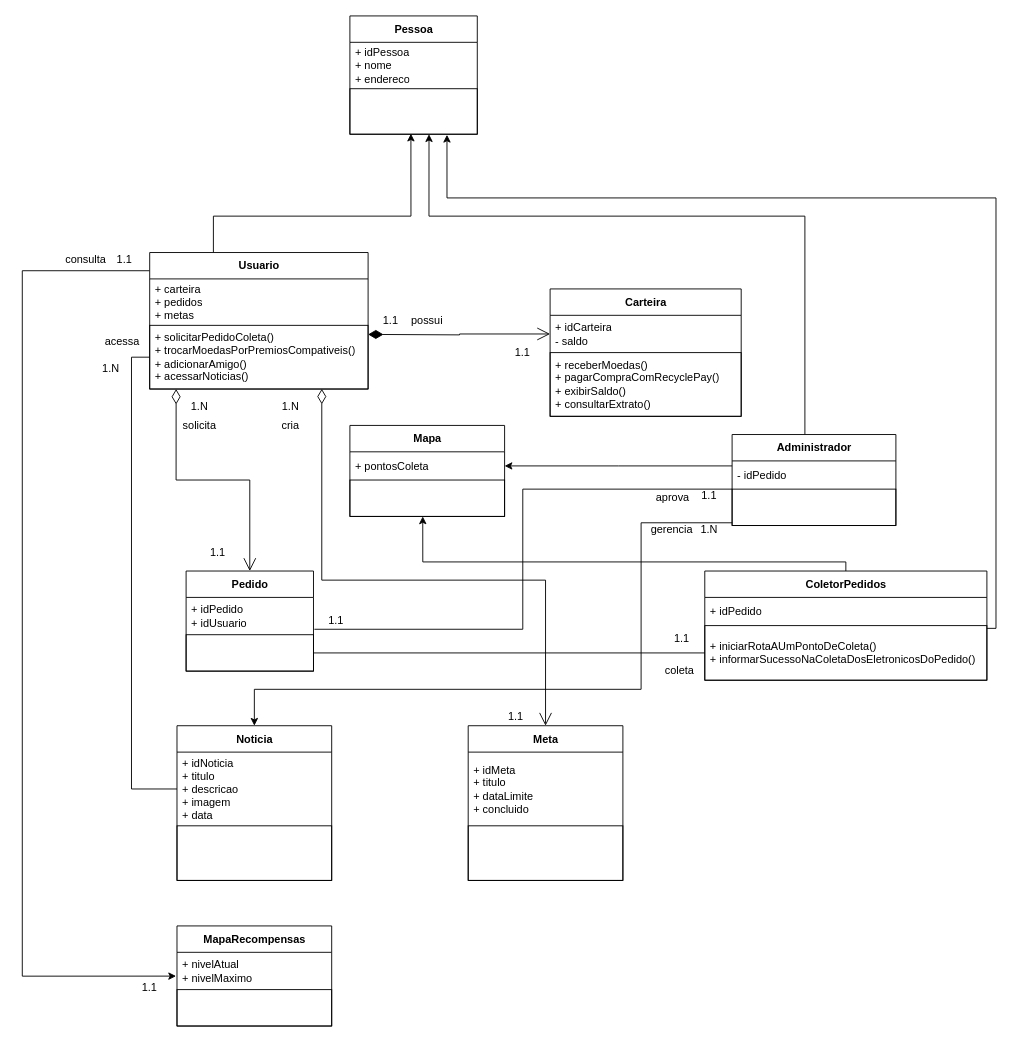
Image size: 1019x1042. Some labels were removed from this diagram. The centre of each missing label's shape, as x and y in pixels:
"+ aprovarPedidoColeta() + adicionarPontoDeColeta()" goes at pixel 813 507.
"+ cadastrar() + autenticar() + recuperarSenha()" goes at pixel 413 111.
"+ consultarProgressao() + receberRecompensas()" goes at pixel 254 1007.
"+ criarMeta() + atualizarMeta() + excluirMeta()" goes at pixel 545 852.
"+ solicitarPedidoColeta()" goes at pixel 249 652.
"+ visualizarNoticia() + editarNoticia() + apagarNoticia()" goes at pixel 254 852.
"+ visualizarPontosDeColeta()" goes at pixel 427 497.
